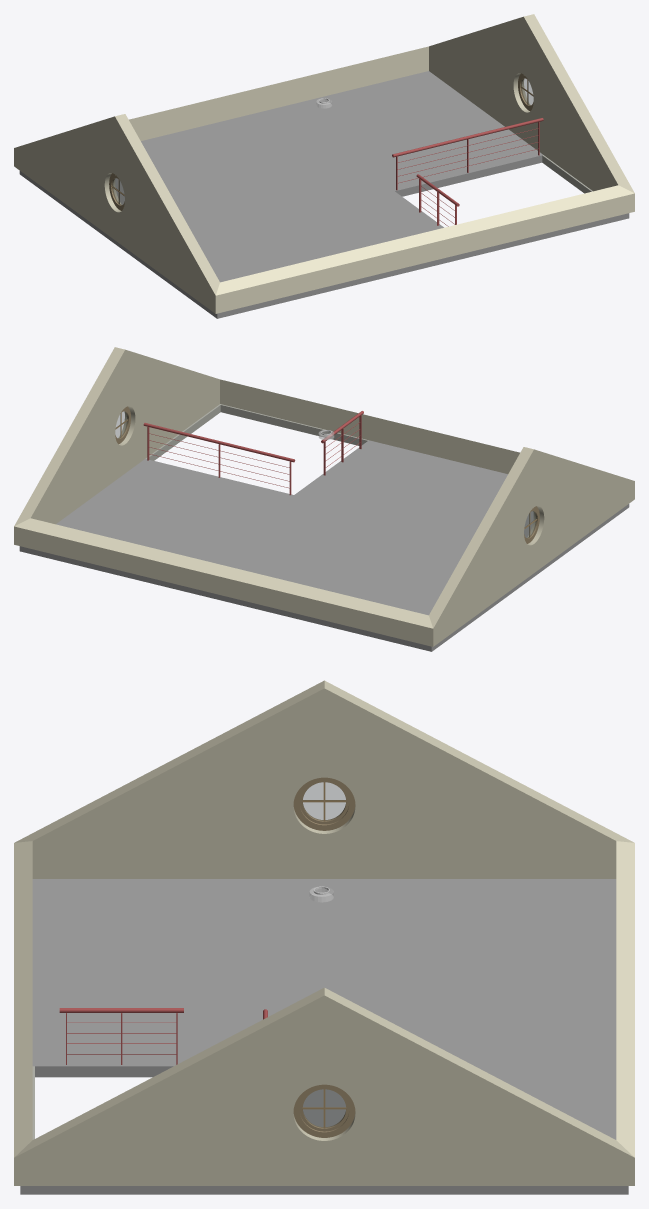
Rendered from House2F.glb.
The picture shows the model from 3 angles, top to bottom: view 1: azimuth 30°, elevation 25°; view 2: azimuth 150°, elevation 25°; view 3: azimuth 270°, elevation 25°; orthographic projection. The views are drawn at different scales.
Visible parts, largest first — view 1: IfcSlab/2F, IfcWallStandardCase/2F1, IfcWallStandardCase/2F3, IfcWallStandardCase/2F2, IfcWallStandardCase/2F4, IfcRailing/1, IfcRailing/2, 2F2; view 2: IfcSlab/2F, IfcWallStandardCase/2F1, IfcWallStandardCase/2F3, IfcWallStandardCase/2F4, IfcWallStandardCase/2F2, 2F2, IfcRailing/1, IfcRailing/2; view 3: IfcSlab/2F, IfcWallStandardCase/2F3, IfcWallStandardCase/2F1, IfcWallStandardCase/2F2, IfcWallStandardCase/2F4, IfcWindow/2F1, IfcWindow/2F2, IfcRailing/2.
Part boxes in pixels (x1=…): IfcSlab/2F: x1=19, y1=71, x2=629, y2=318; IfcWallStandardCase/2F1: x1=14, y1=114, x2=219, y2=313; IfcWallStandardCase/2F3: x1=429, y1=14, x2=634, y2=193; IfcWallStandardCase/2F2: x1=215, y1=185, x2=634, y2=313; IfcWallStandardCase/2F4: x1=129, y1=46, x2=428, y2=140; IfcRailing/1: x1=392, y1=118, x2=543, y2=190; IfcRailing/2: x1=416, y1=174, x2=459, y2=226; 2F2: x1=542, y1=155, x2=592, y2=193; IfcSlab/2F: x1=19, y1=440, x2=629, y2=651; IfcWallStandardCase/2F1: x1=429, y1=447, x2=634, y2=646; IfcWallStandardCase/2F3: x1=14, y1=347, x2=219, y2=526; IfcWallStandardCase/2F4: x1=14, y1=518, x2=433, y2=646; IfcWallStandardCase/2F2: x1=220, y1=379, x2=519, y2=473; 2F2: x1=145, y1=404, x2=368, y2=460; IfcRailing/1: x1=143, y1=423, x2=295, y2=495; IfcRailing/2: x1=321, y1=411, x2=363, y2=475; IfcSlab/2F: x1=20, y1=879, x2=628, y2=1194; IfcWallStandardCase/2F3: x1=14, y1=987, x2=634, y2=1185; IfcWallStandardCase/2F1: x1=14, y1=680, x2=634, y2=878; IfcWallStandardCase/2F2: x1=14, y1=841, x2=32, y2=1157; IfcWallStandardCase/2F4: x1=616, y1=841, x2=634, y2=1157; IfcWindow/2F1: x1=293, y1=1084, x2=355, y2=1137; IfcWindow/2F2: x1=293, y1=777, x2=355, y2=830; IfcRailing/2: x1=59, y1=1008, x2=183, y2=1064.
Size of what is drawn, in the model's own units: 12 by 3.58 by 10.
